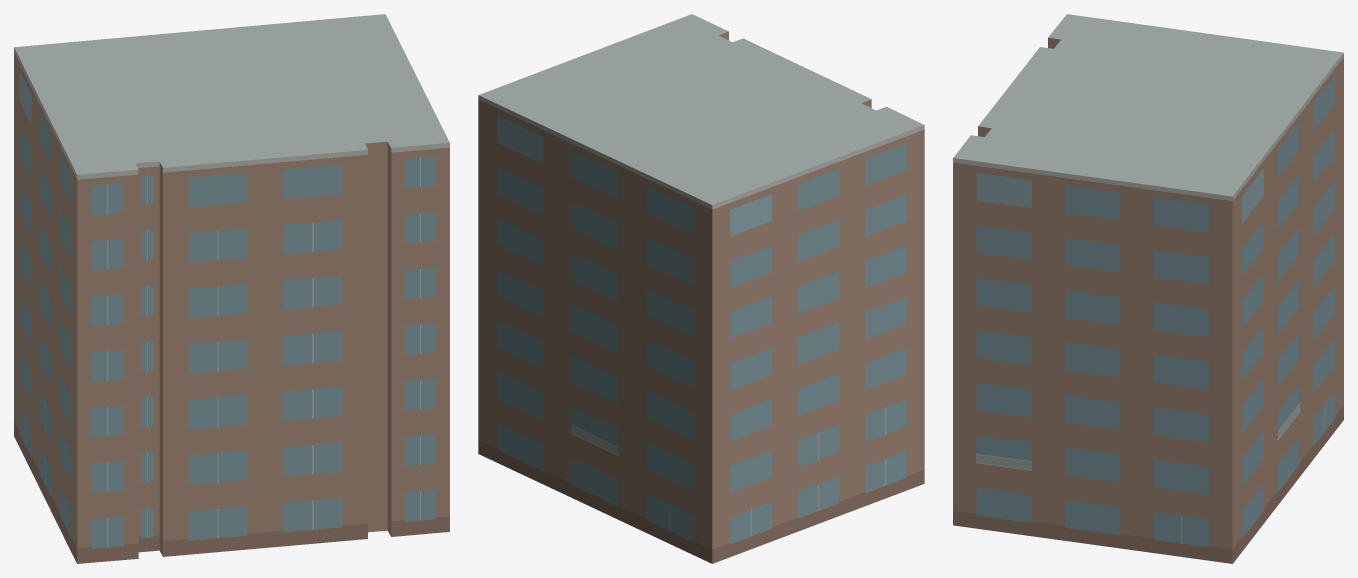
File: survey-upis-32702010.glb
The picture shows the model from 3 angles, left to right: view 1: azimuth 30°, elevation 25°; view 2: azimuth 150°, elevation 25°; view 3: azimuth 270°, elevation 25°; orthographic projection. The views are drawn at different scales.
Parts seen in each view (by area): view 1: survey-upis-32702010.tmp; view 2: survey-upis-32702010.tmp; view 3: survey-upis-32702010.tmp.
Boxes of the visible parts, <box> form: survey-upis-32702010.tmp: <box>14,14,449,563</box>; survey-upis-32702010.tmp: <box>478,14,924,563</box>; survey-upis-32702010.tmp: <box>953,14,1343,563</box>.
Size of the model in its own units: 20.79 by 19.5 by 18.81.
